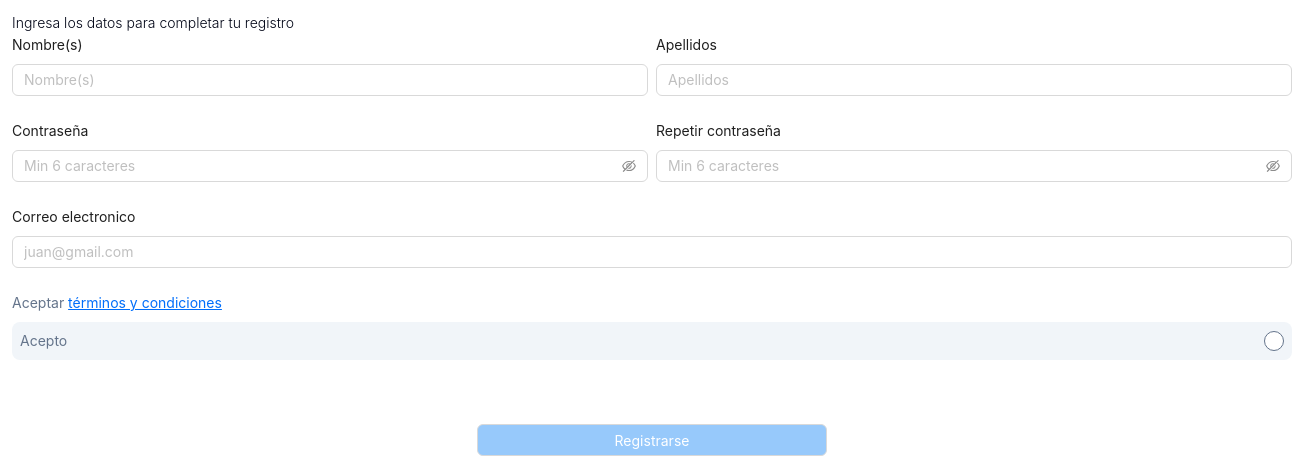
Test: Resgiter Validation Test › should show an error for invalid last name
This screenshot has width=1304, height=473.
Step 1. Type "123" into the field with placeholder "Apellidos" → (974, 80), box [656,64,1292,96]
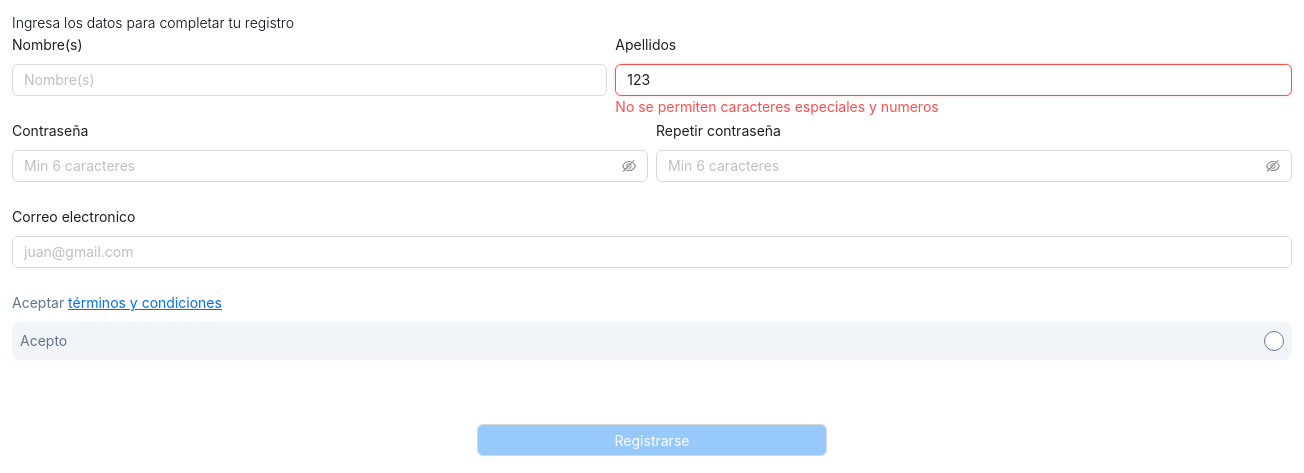
Now the text "No se permiten caracteres especiales y numeros" is shown, box [615,98,939,115]
